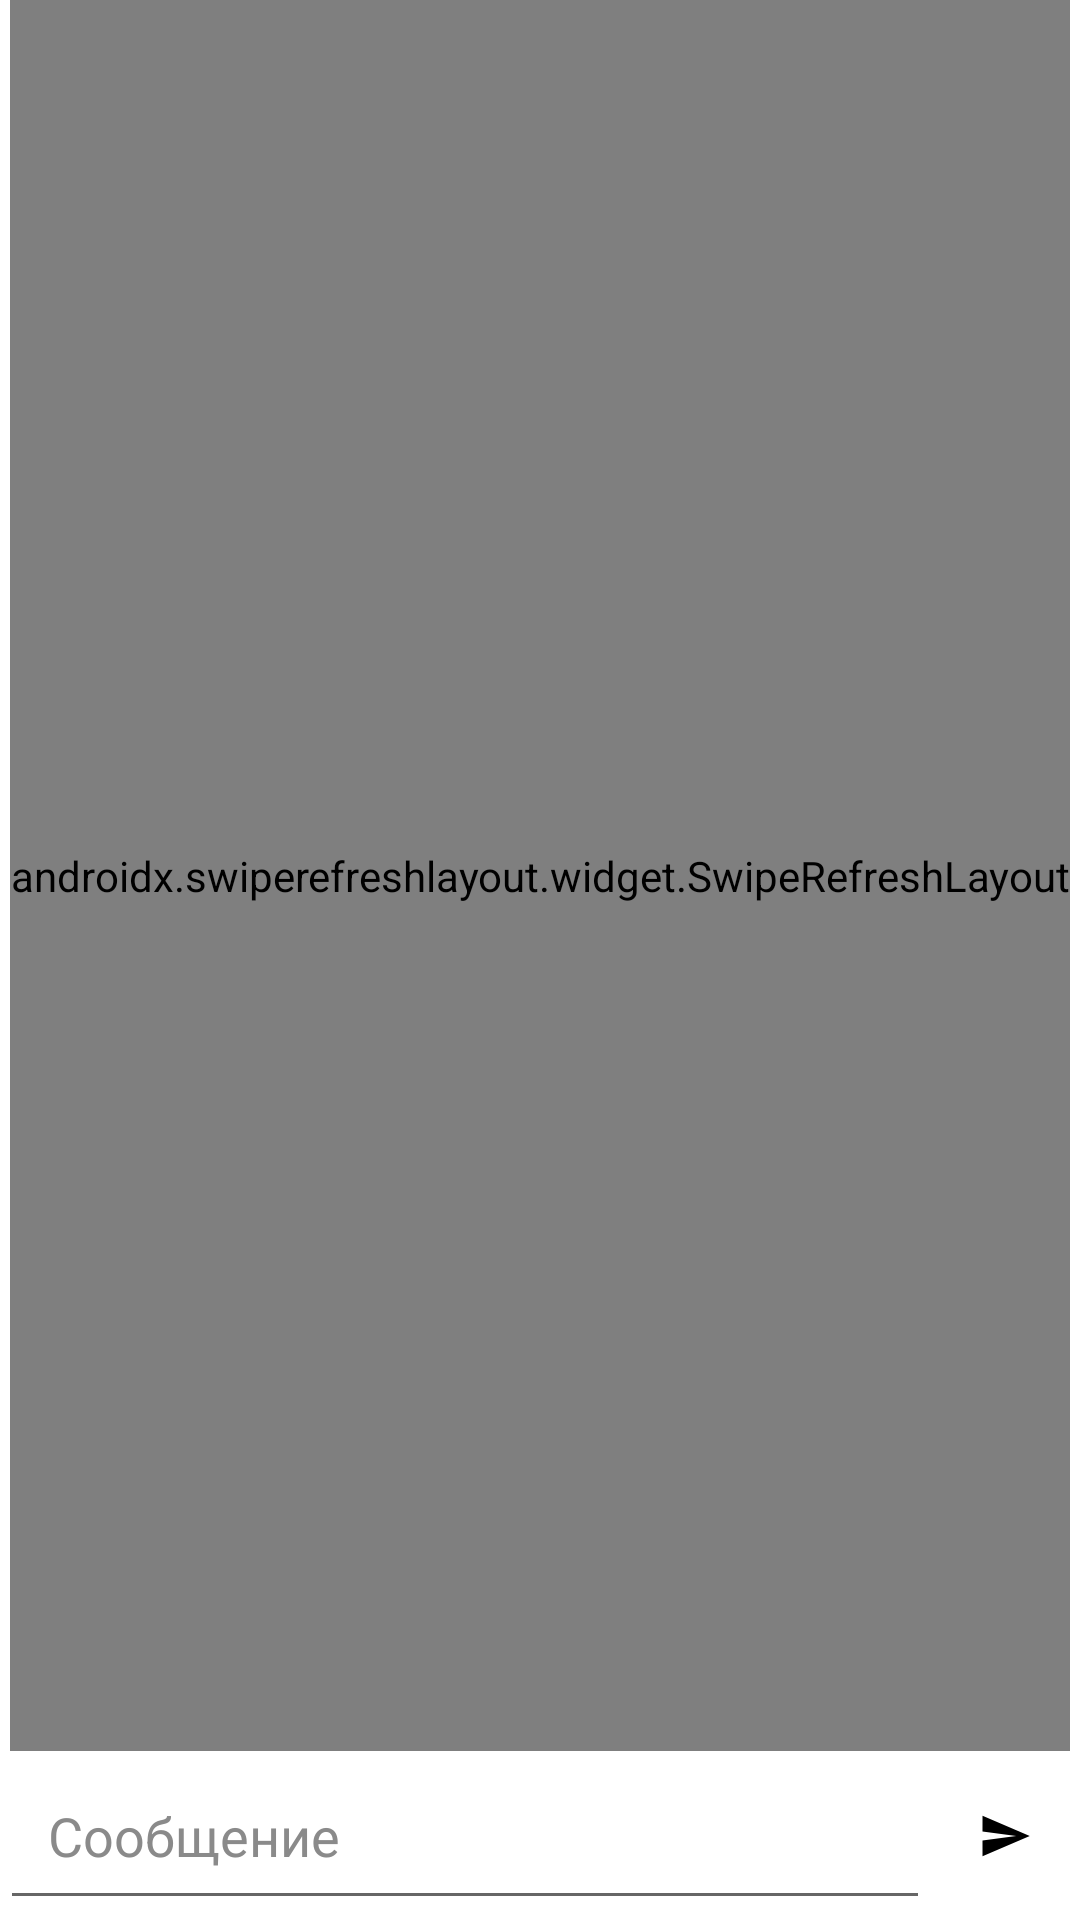

Icon bounding boxes for this 1080 × 1920 phone screenshot, format (x1,y1,x2,y2):
send: (982,1816,1030,1856)
